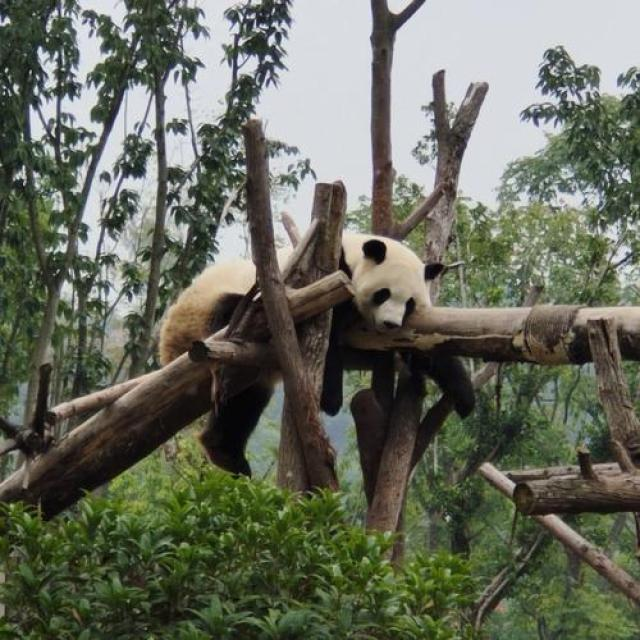panda: (132, 185, 531, 488)
